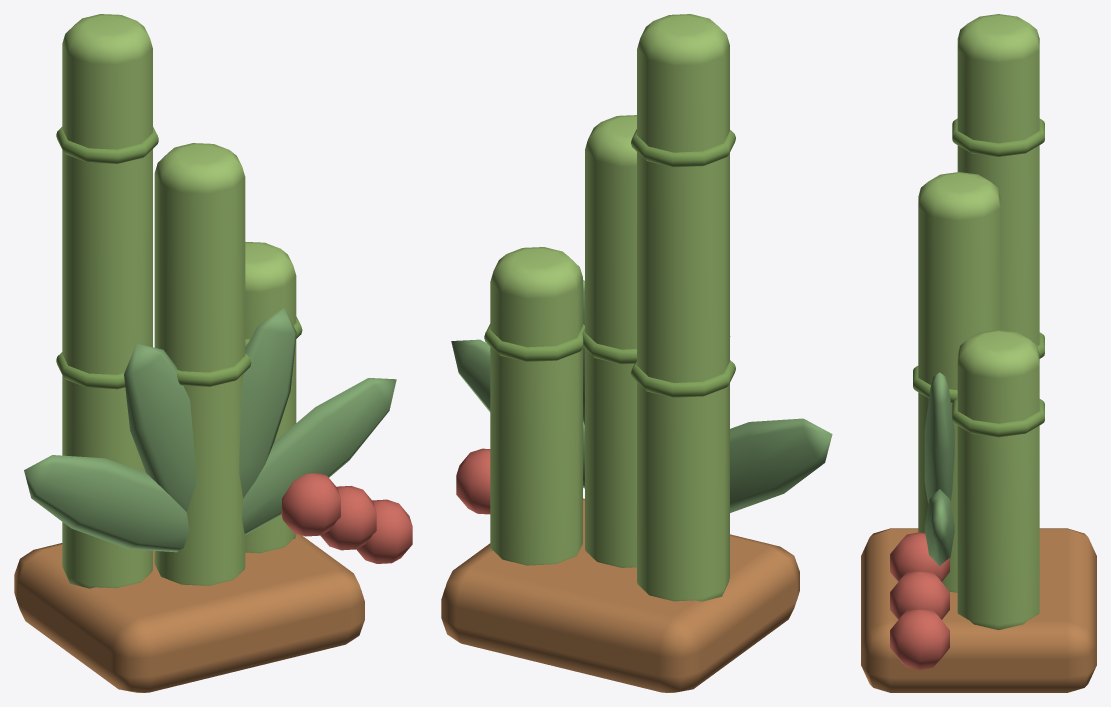
The model's file is bamboo_wall_spray.glb.
3 renders of one model, left to right at view 1: azimuth 30°, elevation 25°; view 2: azimuth 150°, elevation 25°; view 3: azimuth 270°, elevation 25°, orthographic. The views are drawn at different scales.
Visible parts, largest first — view 1: bamboo_wall_spray_mesh; view 2: bamboo_wall_spray_mesh; view 3: bamboo_wall_spray_mesh.
Boxes of the visible parts, <box> form: bamboo_wall_spray_mesh: <box>14,14,412,692</box>; bamboo_wall_spray_mesh: <box>441,14,832,692</box>; bamboo_wall_spray_mesh: <box>861,14,1096,692</box>.
Size of the model in its own units: 0.2091 by 0.33 by 0.12.
